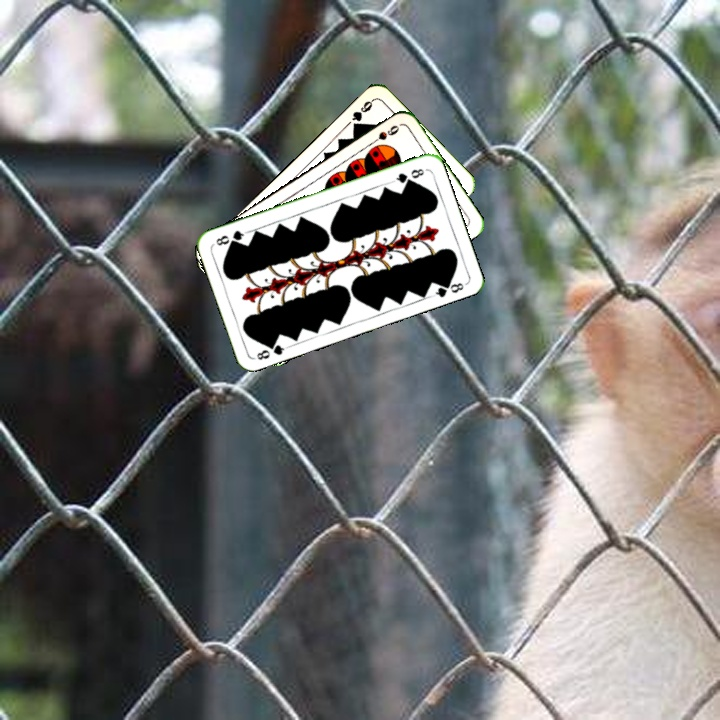G8: (251, 337, 291, 363), (389, 164, 427, 186)
G9: (347, 95, 376, 132)
S9: (366, 121, 402, 148)
